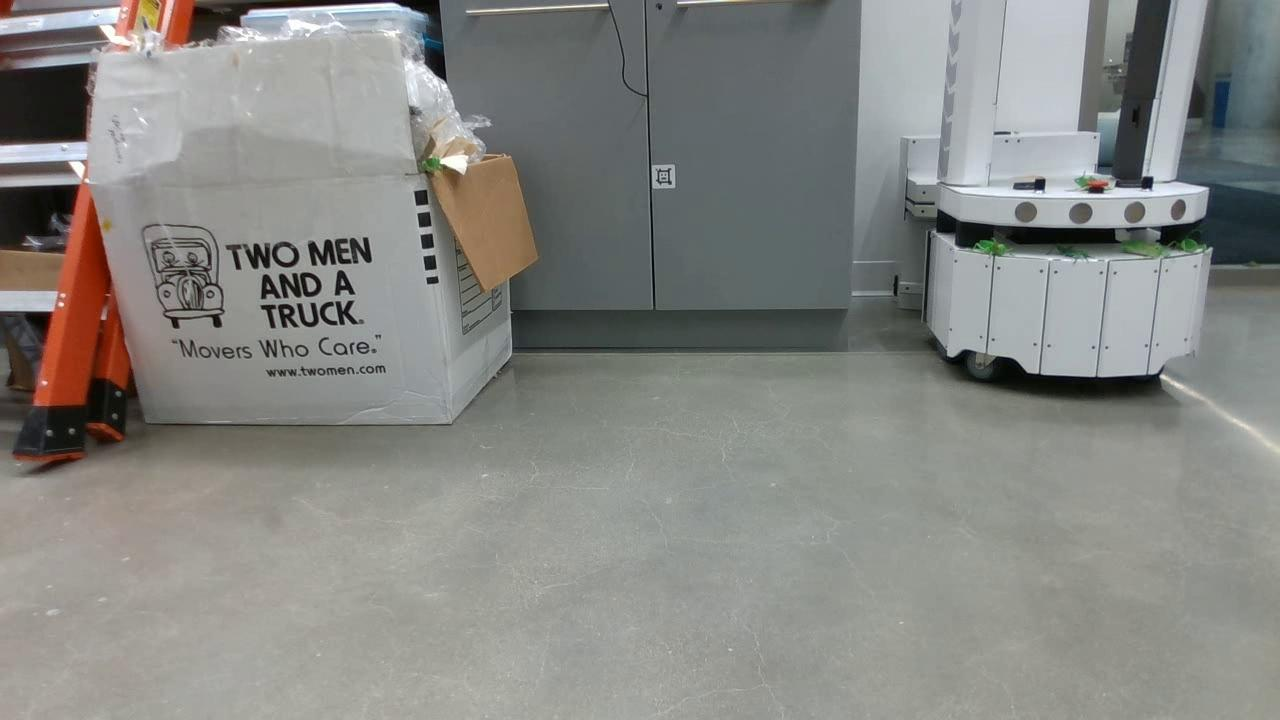grasshopper: (1115, 230, 1166, 261), (1165, 228, 1210, 258), (969, 232, 1008, 258), (417, 153, 449, 178), (1070, 170, 1106, 192)
